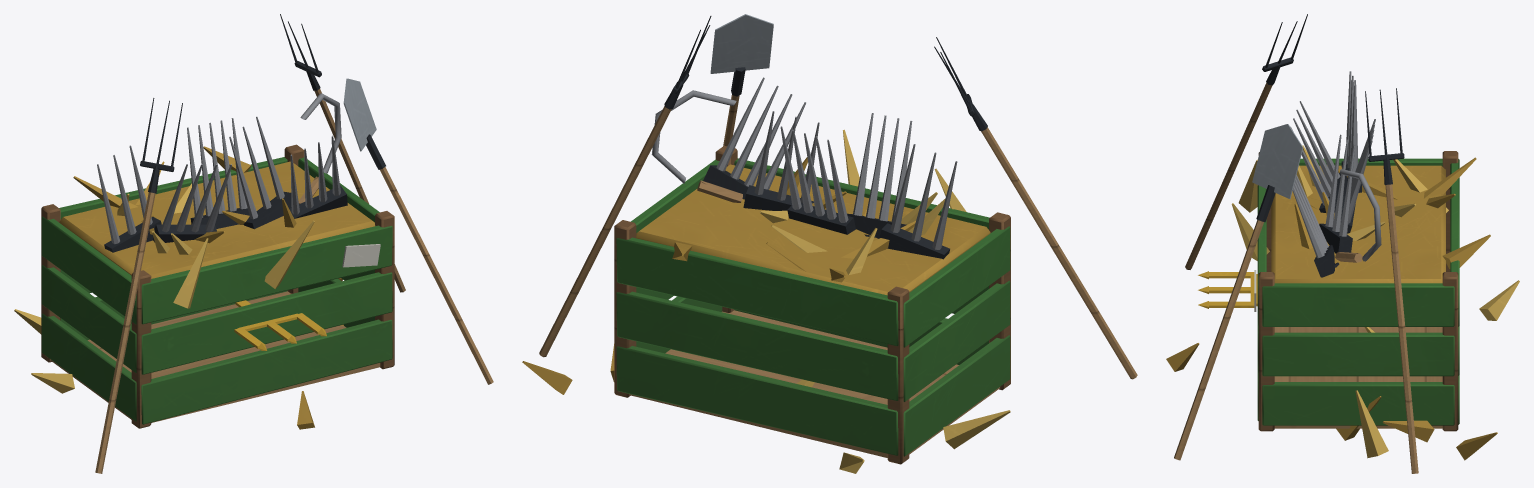
The model's file is rakehand_tool_hoard.glb.
The picture shows the model from 3 angles, left to right: view 1: azimuth 30°, elevation 25°; view 2: azimuth 150°, elevation 25°; view 3: azimuth 270°, elevation 25°; orthographic projection. The views are drawn at different scales.
Parts seen in each view (by area): view 1: rakehand_tool_hoard.001; view 2: rakehand_tool_hoard.001; view 3: rakehand_tool_hoard.001.
Boxes of the visible parts, box(x1,y1,x2,y2) form: rakehand_tool_hoard.001: box(14, 14, 493, 473); rakehand_tool_hoard.001: box(522, 14, 1137, 473); rakehand_tool_hoard.001: box(1166, 14, 1519, 473).
Size of the model in its own units: 2.18 by 1.63 by 1.56.
11 materials, 11 textured.
